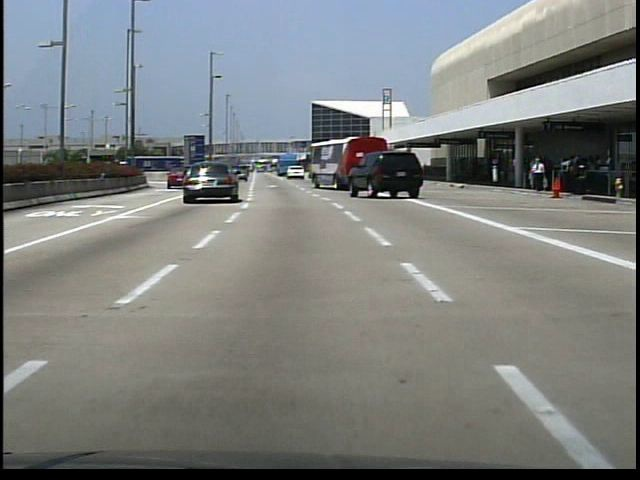person: (530, 156, 548, 195)
